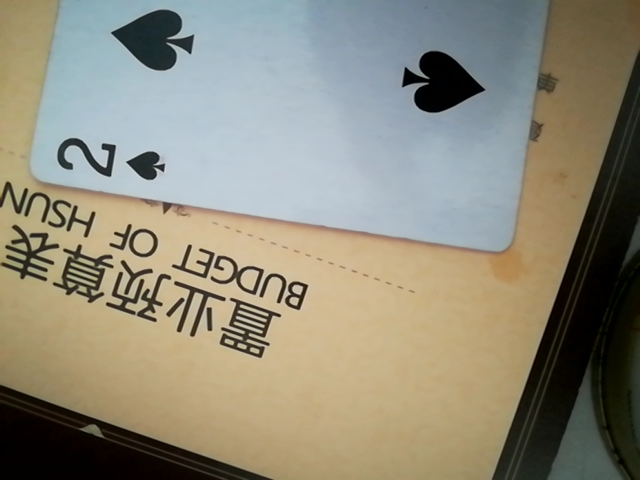ht 2: (24, 2, 562, 250)
